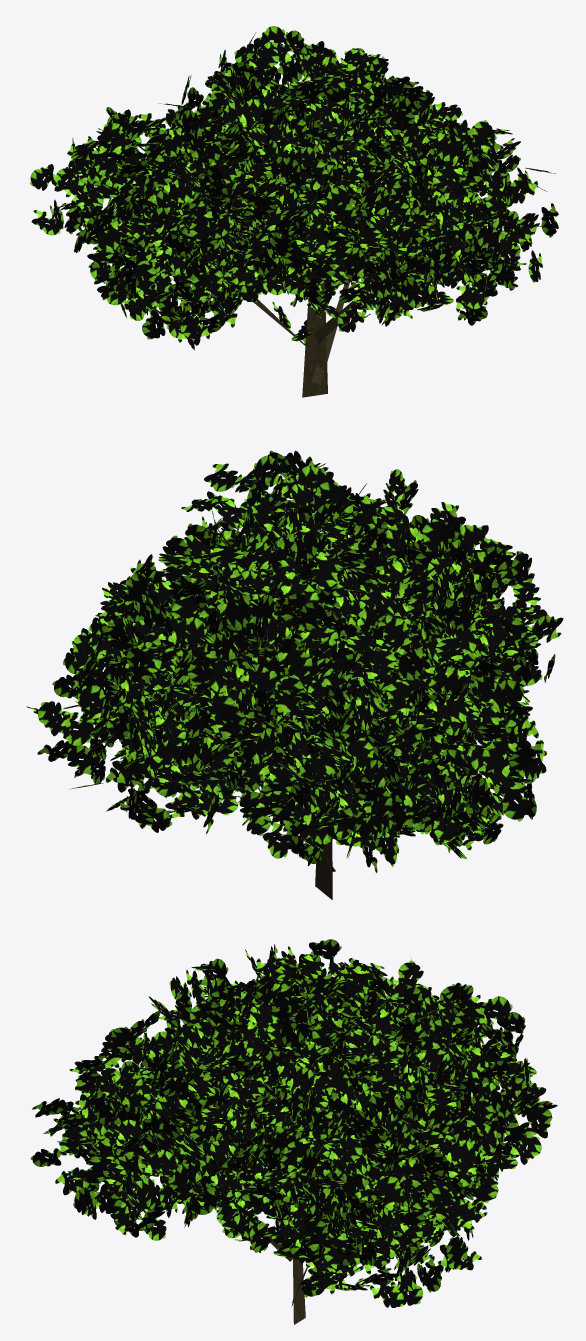
Rendered from understory_laurel_v02_LOD1.fbx.
3 views of the same model, one above another, from view 1: azimuth 30°, elevation 25°; view 2: azimuth 150°, elevation 25°; view 3: azimuth 270°, elevation 25° (orthographic). The views are drawn at different scales.
Parts seen in each view (by area): view 1: understory_laurel_v02_LOD1; view 2: understory_laurel_v02_LOD1; view 3: understory_laurel_v02_LOD1.
Part boxes in pixels (x1,y1,x2,y2): understory_laurel_v02_LOD1: (30, 26, 558, 397); understory_laurel_v02_LOD1: (26, 450, 563, 899); understory_laurel_v02_LOD1: (30, 939, 557, 1324).
Size of the model in its own units: 1029 by 1046 by 725.
2 materials, 2 textured.
